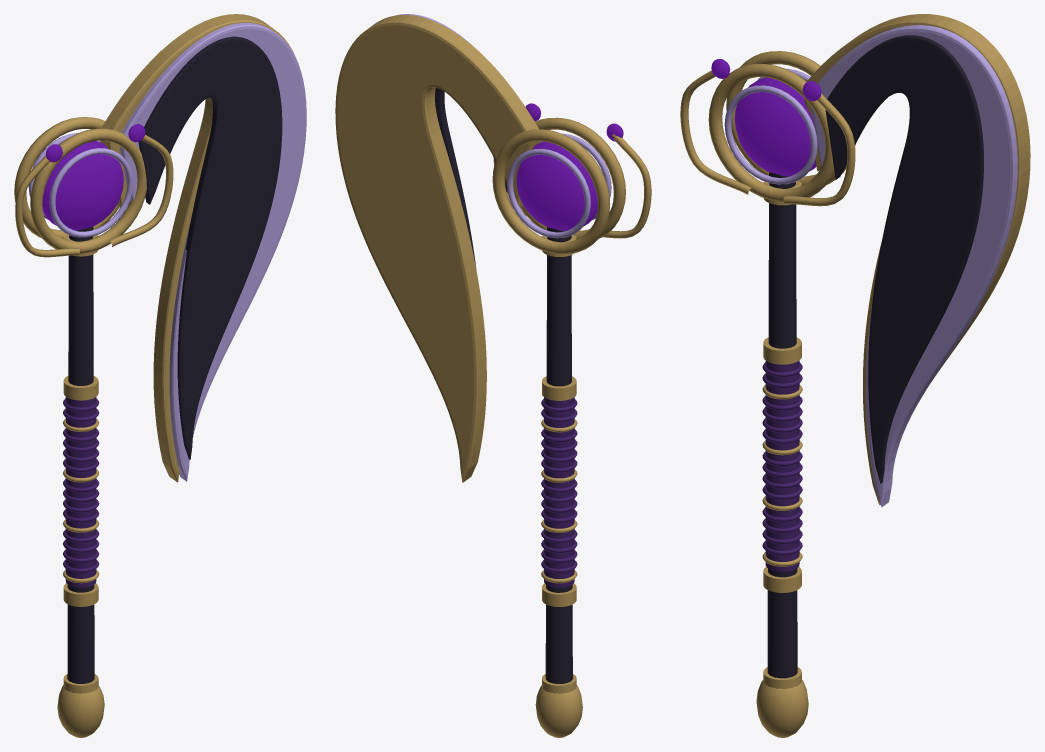
The model's file is void-glaive.glb.
The picture shows the model from 3 angles, left to right: view 1: azimuth 30°, elevation 25°; view 2: azimuth 150°, elevation 25°; view 3: azimuth 330°, elevation 25°; orthographic projection. The views are drawn at different scales.
Parts seen in each view (by area): view 1: Obsidian steel, Antique gold, Honed violet edge, Purple wrapped grip, Void crystal; view 2: Antique gold, Obsidian steel, Purple wrapped grip, Void crystal, Honed violet edge; view 3: Obsidian steel, Antique gold, Honed violet edge, Purple wrapped grip, Void crystal.
Boxes of the visible parts, <box> form: Obsidian steel: <box>67,36,282,683</box>; Antique gold: <box>14,14,293,737</box>; Honed violet edge: <box>28,22,306,481</box>; Purple wrapped grip: <box>63,397,99,587</box>; Void crystal: <box>42,124,145,230</box>; Antique gold: <box>335,14,651,737</box>; Obsidian steel: <box>435,87,572,683</box>; Purple wrapped grip: <box>541,397,577,587</box>; Void crystal: <box>516,103,623,230</box>; Honed violet edge: <box>397,14,611,238</box>; Obsidian steel: <box>767,35,983,678</box>; Antique gold: <box>680,14,1030,737</box>; Honed violet edge: <box>724,25,1017,506</box>; Purple wrapped grip: <box>762,360,802,571</box>; Void crystal: <box>711,59,821,176</box>.
Bounding box in the file's own units: 0.6499 × 1.42 × 0.1162.
